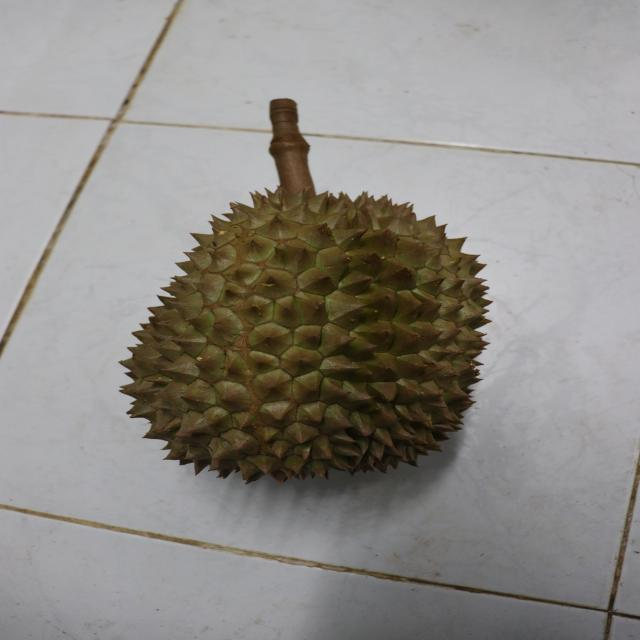mature: (106, 183, 492, 487)
